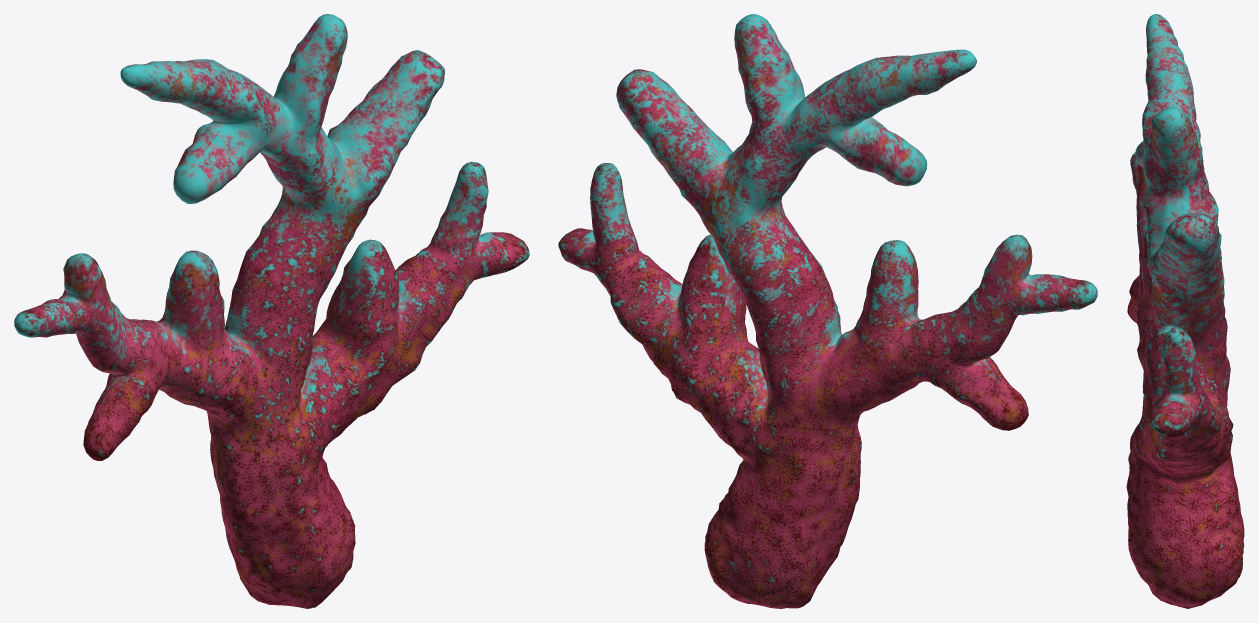
The picture shows the model from 3 angles, left to right: view 1: azimuth 30°, elevation 25°; view 2: azimuth 150°, elevation 25°; view 3: azimuth 270°, elevation 25°; orthographic projection. The views are drawn at different scales.
Parts seen in each view (by area): view 1: Coral_Low:Group43241; view 2: Coral_Low:Group43241; view 3: Coral_Low:Group43241.
Part boxes in pixels (bbox=[...]): Coral_Low:Group43241: bbox=[14, 14, 529, 608]; Coral_Low:Group43241: bbox=[558, 14, 1097, 608]; Coral_Low:Group43241: bbox=[1126, 14, 1244, 608].
Bounding box in the file's own units: 1.86 × 2 × 0.4192.
Materials: 1 (1 with a texture image).
